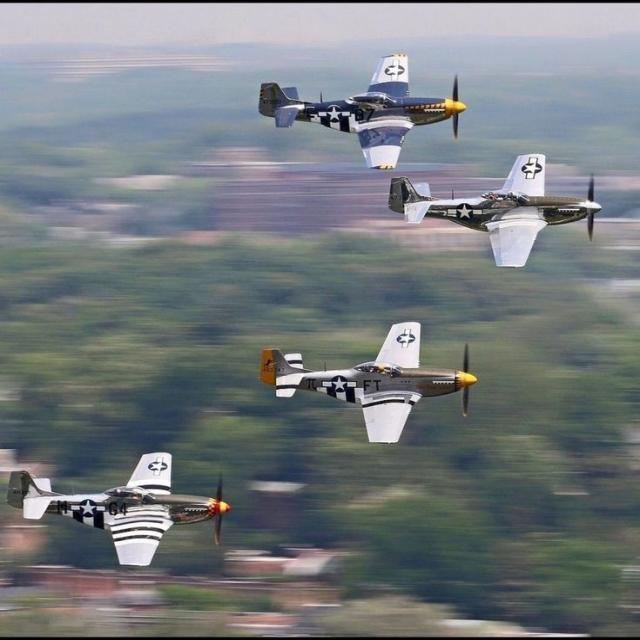iha: (0, 441, 169, 569), (260, 353, 482, 412), (388, 182, 602, 237), (256, 21, 466, 76)
